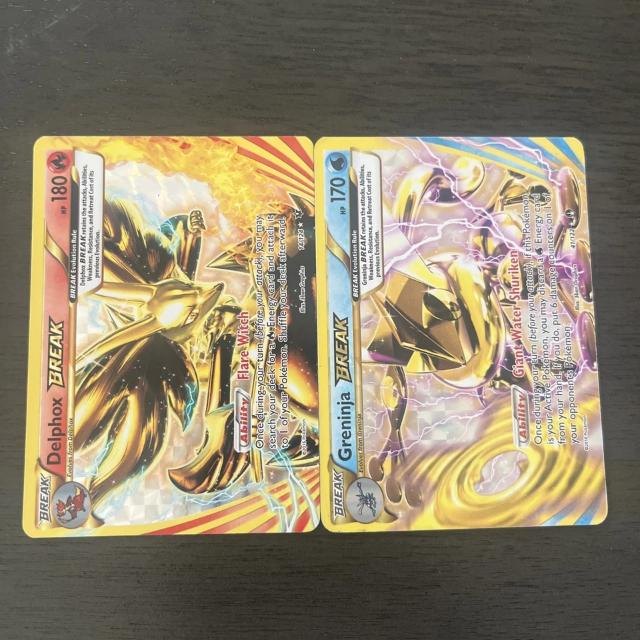Card: (19, 131, 320, 543), (314, 133, 611, 537)
Name: (38, 309, 69, 478), (329, 304, 356, 470)
